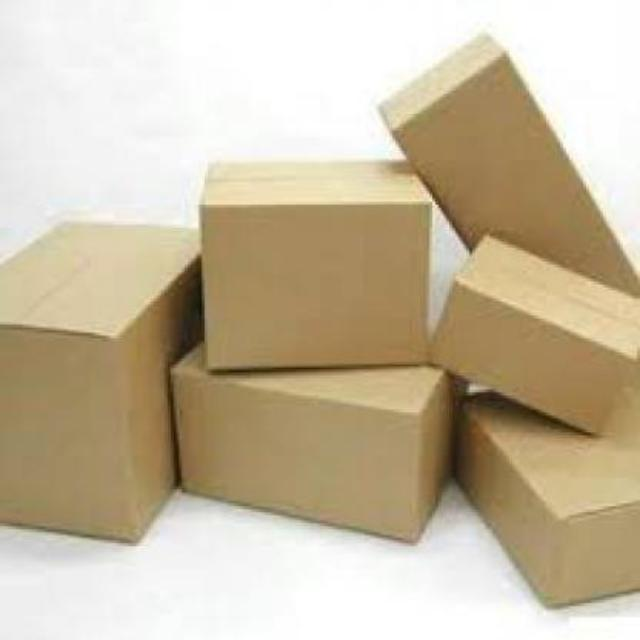cardboard_box: (384, 40, 640, 324), (8, 214, 210, 552), (162, 342, 454, 554), (192, 158, 432, 374), (458, 366, 640, 610)
